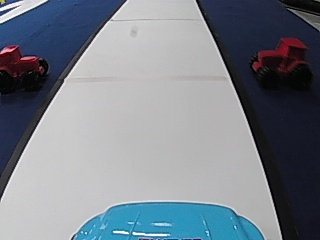tractor: (248, 35, 312, 90), (0, 41, 47, 93)
